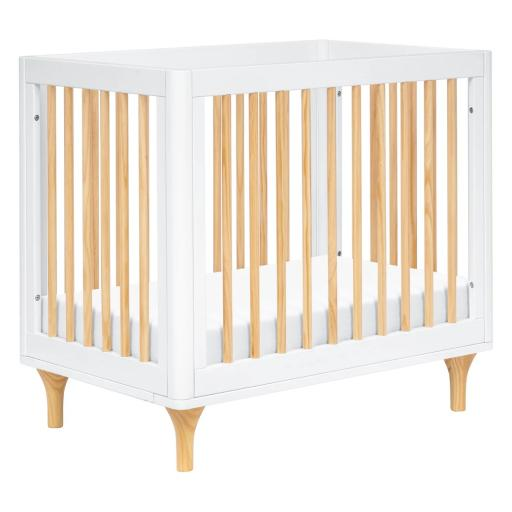crib: (19, 38, 492, 473)
